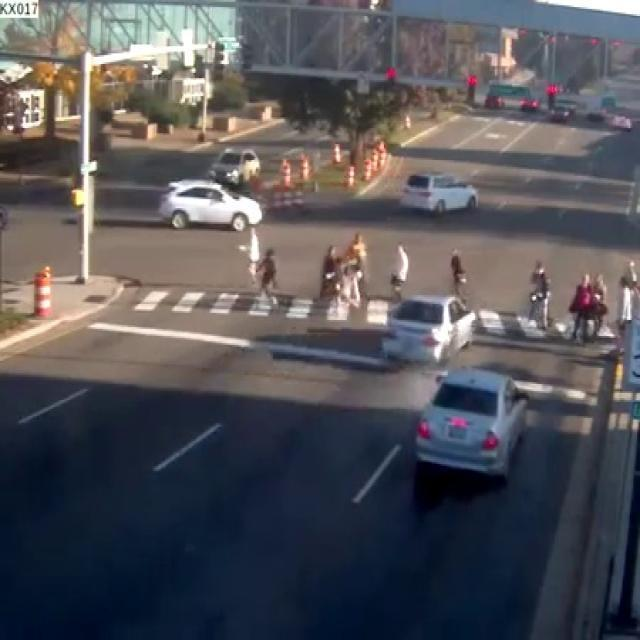car: (414, 367, 523, 475), (379, 293, 471, 360), (157, 178, 260, 228), (400, 171, 476, 211), (204, 145, 258, 183)
red_light: (464, 71, 476, 103), (544, 81, 558, 105), (383, 64, 396, 82)
stop_line: (88, 320, 393, 369), (513, 378, 587, 400)
